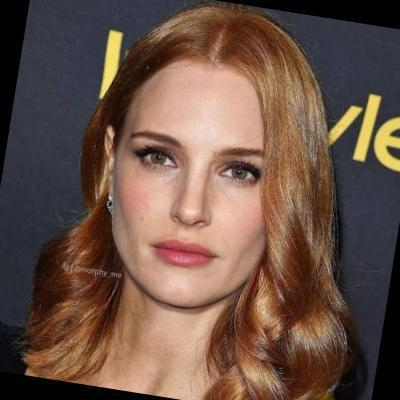Sober: (124, 68, 267, 287)
